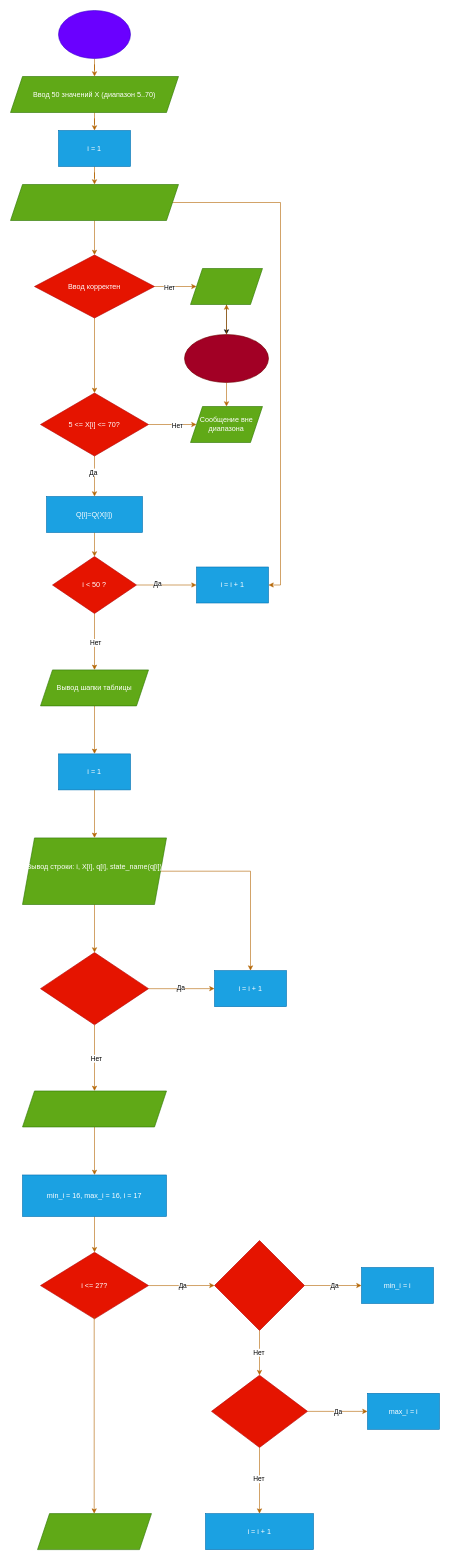
Image size: 450x1561. Some labels were removed from this diagram. The centre of each missing label's shape, as x and y in pixels:
i < 50?: [94,988]
q[i] < q [min_i]: [259,1285]
q[i] > q[max_i]: [259,1411]
Ввод X[i]: [94,202]
Вывод main, max индексов: [94,1531]
Вывод заголовка статистики: [94,1108]
Конец (return 1): [226,358]
Начало: [94,34]
Сообщения об ошибке: [226,286]
